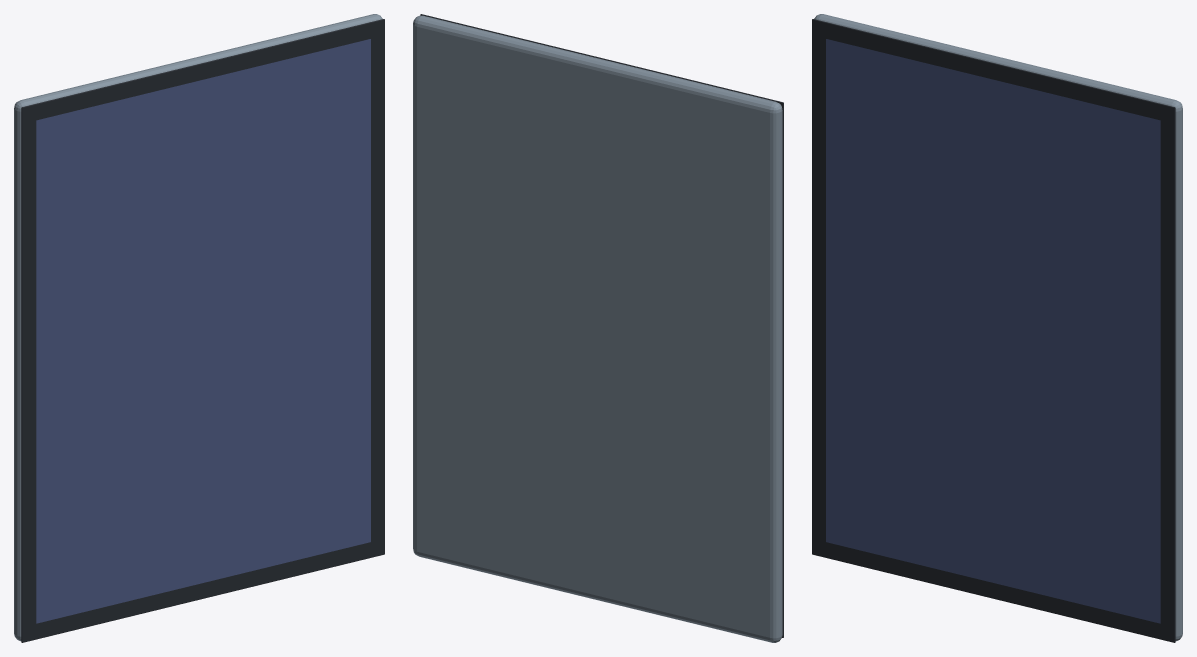
File: tablet-dev.glb
3 views of the same model, side by side, from view 1: azimuth 30°, elevation 25°; view 2: azimuth 150°, elevation 25°; view 3: azimuth 330°, elevation 25° (orthographic).
Parts seen in each view (by area): view 1: Screen, FrontGlass, DeviceBody; view 2: DeviceBody, FrontGlass; view 3: Screen, FrontGlass, DeviceBody.
Part boxes in pixels (x1=…): Screen: x1=36, y1=39, x2=370, y2=623; FrontGlass: x1=21, y1=19, x2=384, y2=642; DeviceBody: x1=14, y1=14, x2=382, y2=641; DeviceBody: x1=413, y1=15, x2=782, y2=642; FrontGlass: x1=420, y1=14, x2=783, y2=637; Screen: x1=826, y1=39, x2=1160, y2=623; FrontGlass: x1=812, y1=19, x2=1175, y2=642; DeviceBody: x1=814, y1=14, x2=1182, y2=641.
Bounding box in the file's own units: 0.178 × 0.25 × 0.0076.
